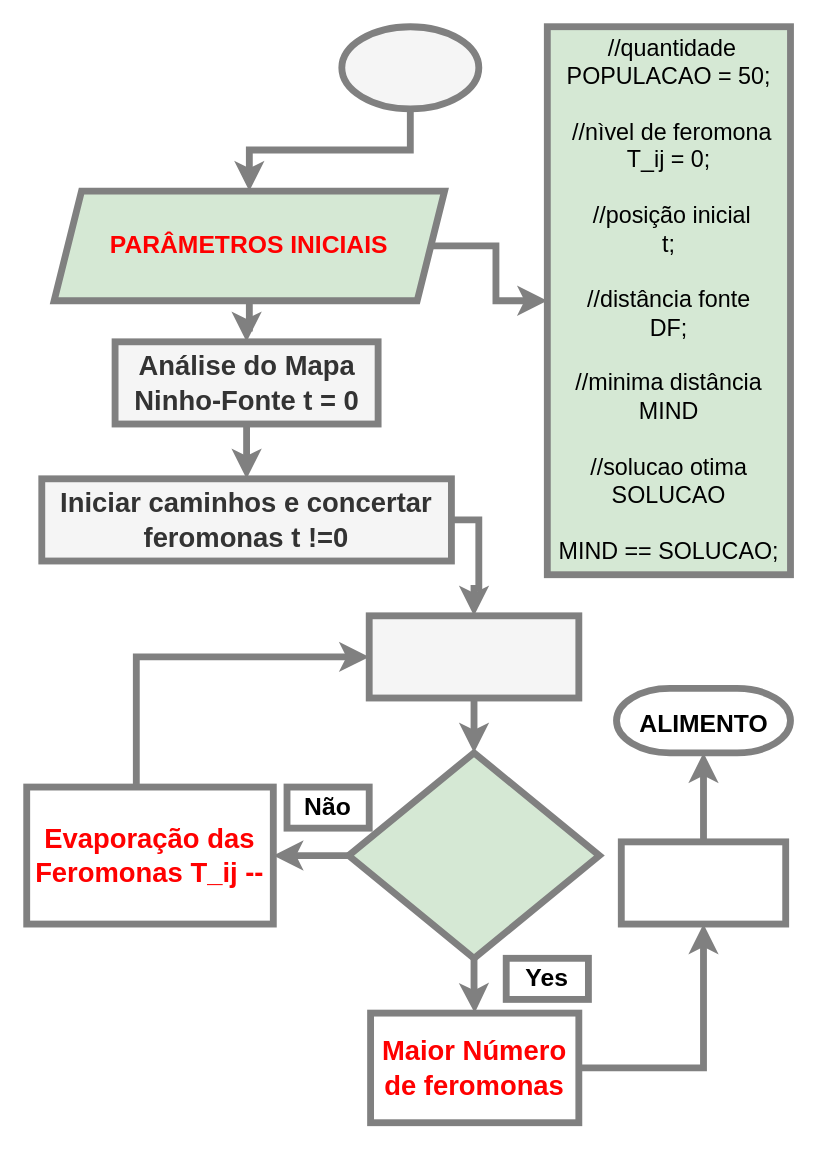
Some shapes in this 818 by 1149 pixel diagram are drawn without their labels. Here are the shapes that lost their labels. From the top down, the centre of each, then its label:
(410,67): NINHO
(473,656): Avaliar as regiões T_ij ++
(473,855): DF = = MIND
(702,882): SOLUCAO
